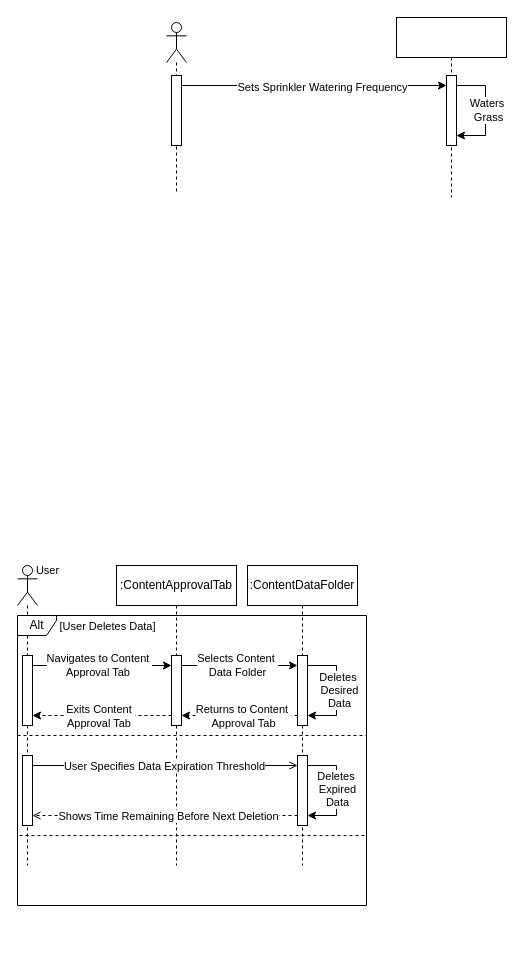
Image size: 524x963. Some labels were removed from this diagram. Here are the shapes that lost their labels. From the top down, the centre of each, then its label:
At point 451,107: ":LawnSprinklerApp".
At point 191,785: "[System Deletes Data after Expiration Period]".
